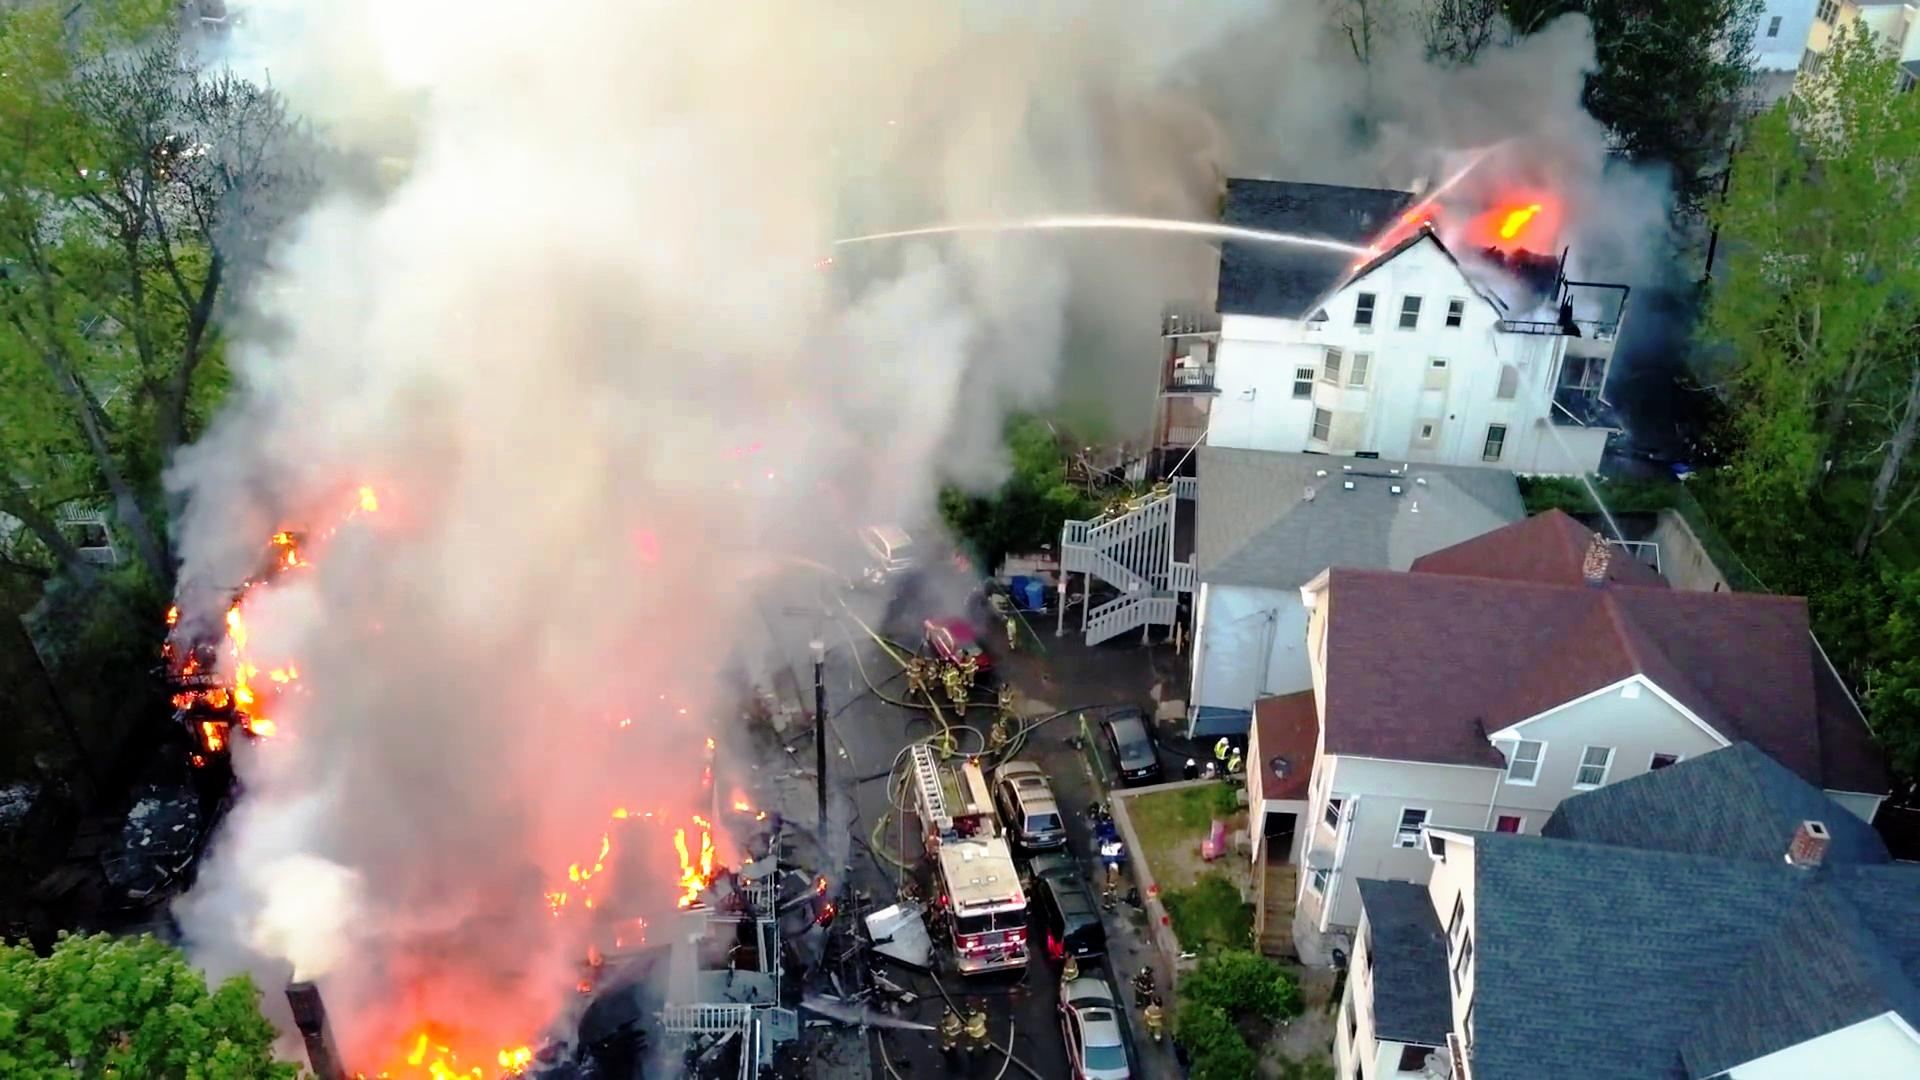fire: (181, 633, 315, 740), (351, 1021, 543, 1080)
smoke: (393, 873, 547, 1013)
